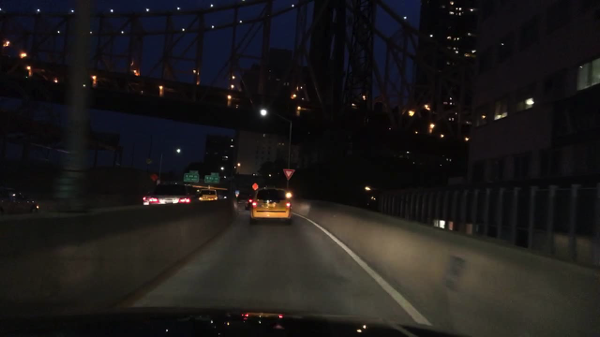car: (250, 188, 293, 226), (143, 182, 197, 206), (0, 188, 41, 214), (199, 188, 218, 201), (245, 194, 255, 211), (219, 194, 227, 199)
traffic sign: (184, 172, 200, 183), (205, 175, 220, 184), (283, 169, 294, 179), (252, 183, 259, 191), (151, 174, 158, 181), (235, 190, 241, 197), (190, 170, 200, 174), (211, 172, 220, 176)
